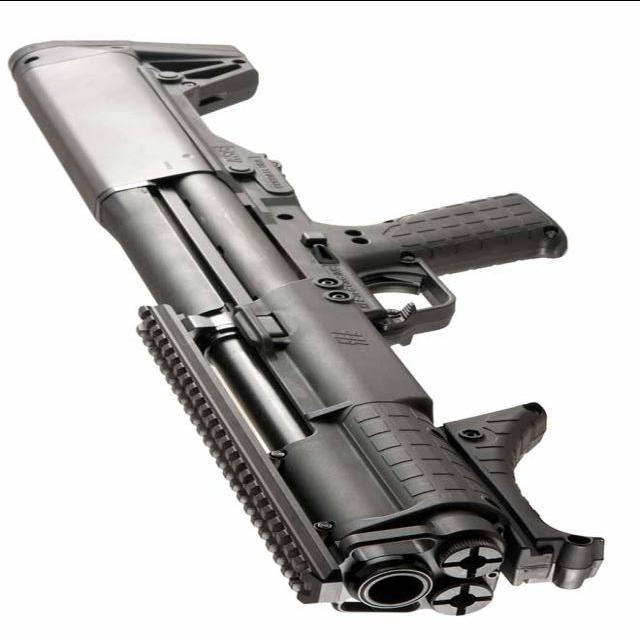rifle: (7, 35, 640, 620)
